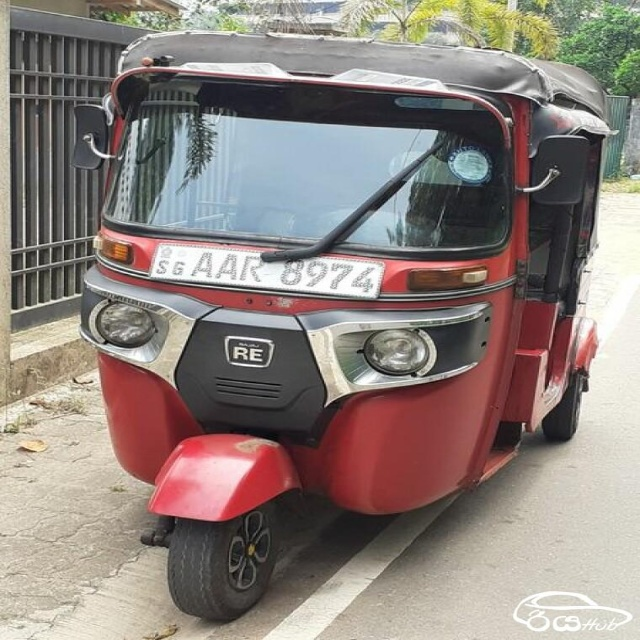Motorcycle: (71, 30, 614, 620)
